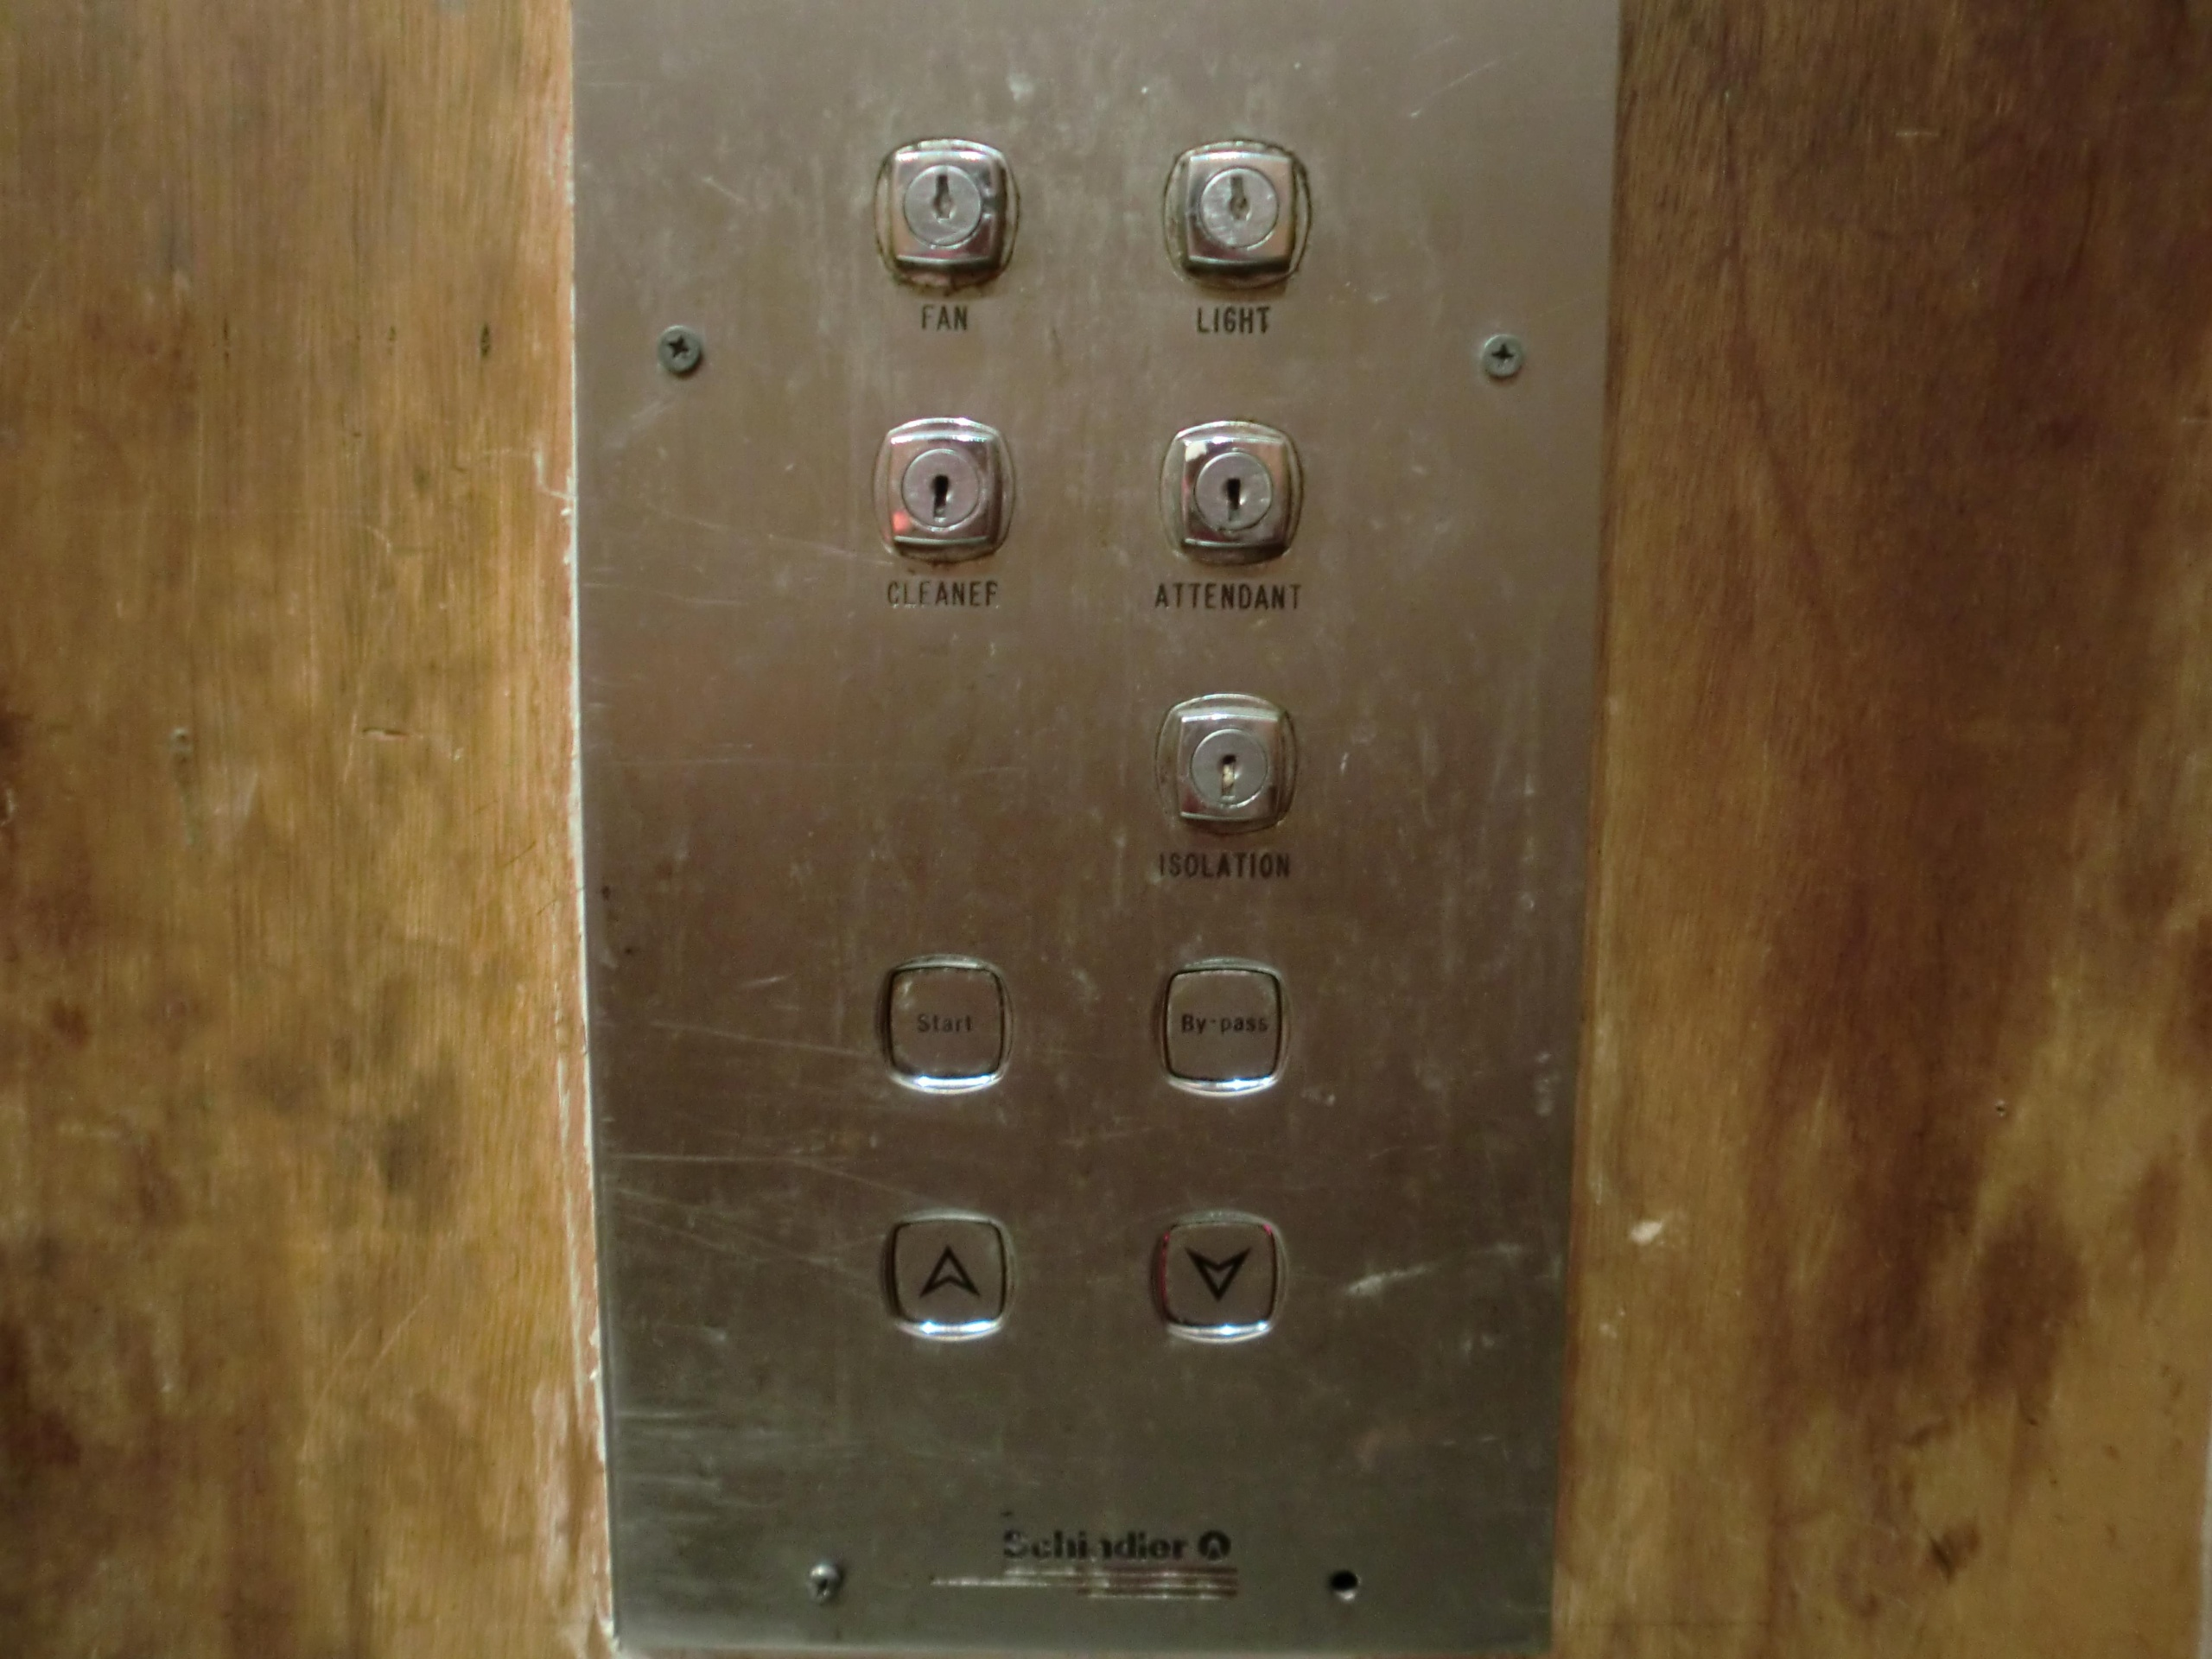down: (1146, 1202, 1292, 1351)
keyhole: (871, 136, 1021, 291), (1155, 416, 1303, 566), (1163, 138, 1310, 289), (873, 415, 1015, 565), (1158, 692, 1298, 835)
text_bypass: (1150, 957, 1292, 1098)
text_start: (878, 953, 1015, 1098)
up: (876, 1202, 1019, 1347)
